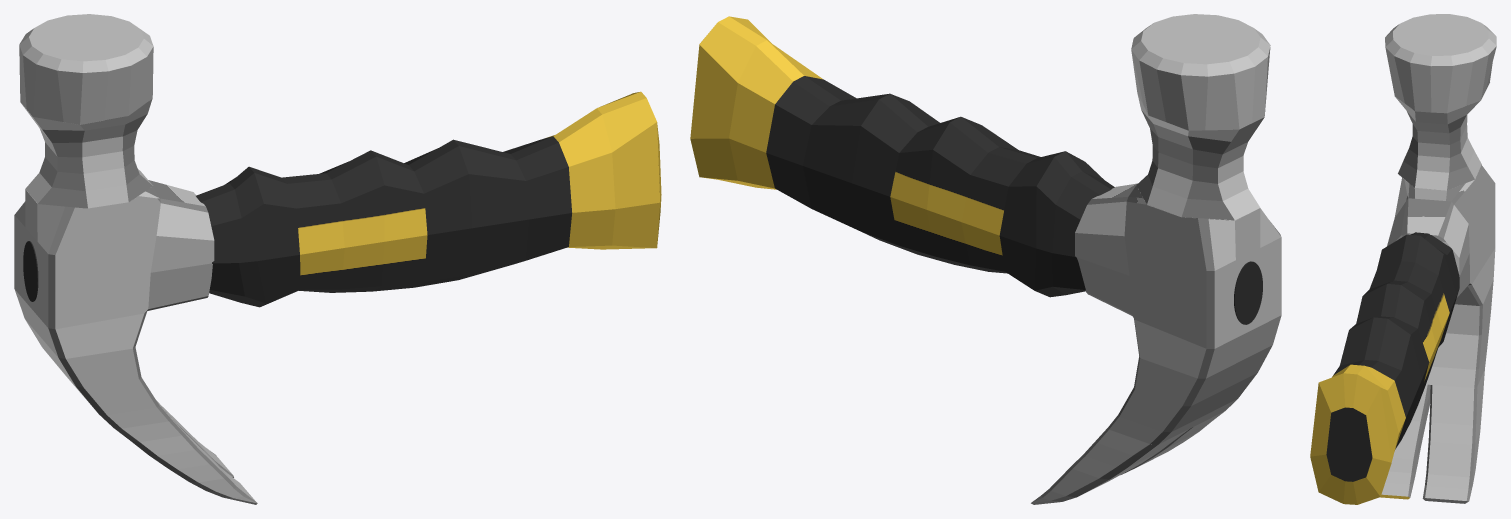
Rendered from StubbyHammer.fbx.
3 renders of one model, left to right at view 1: azimuth 30°, elevation 25°; view 2: azimuth 150°, elevation 25°; view 3: azimuth 270°, elevation 25°, orthographic. The views are drawn at different scales.
Parts seen in each view (by area): view 1: ZomboidStubbyHammer; view 2: ZomboidStubbyHammer; view 3: ZomboidStubbyHammer.
Part boxes in pixels (x1,y1,x2,y2): ZomboidStubbyHammer: [14, 14, 661, 504]; ZomboidStubbyHammer: [690, 14, 1281, 504]; ZomboidStubbyHammer: [1310, 14, 1496, 504].
Size of the model in its own units: 0.1235 by 0.096 by 0.0399.
